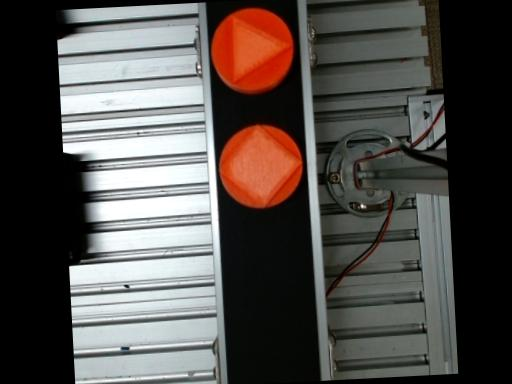Not_Square: (231, 14, 290, 84)
Orange_Waper: (211, 8, 293, 94), (218, 125, 301, 209)
Square: (218, 124, 301, 208)
